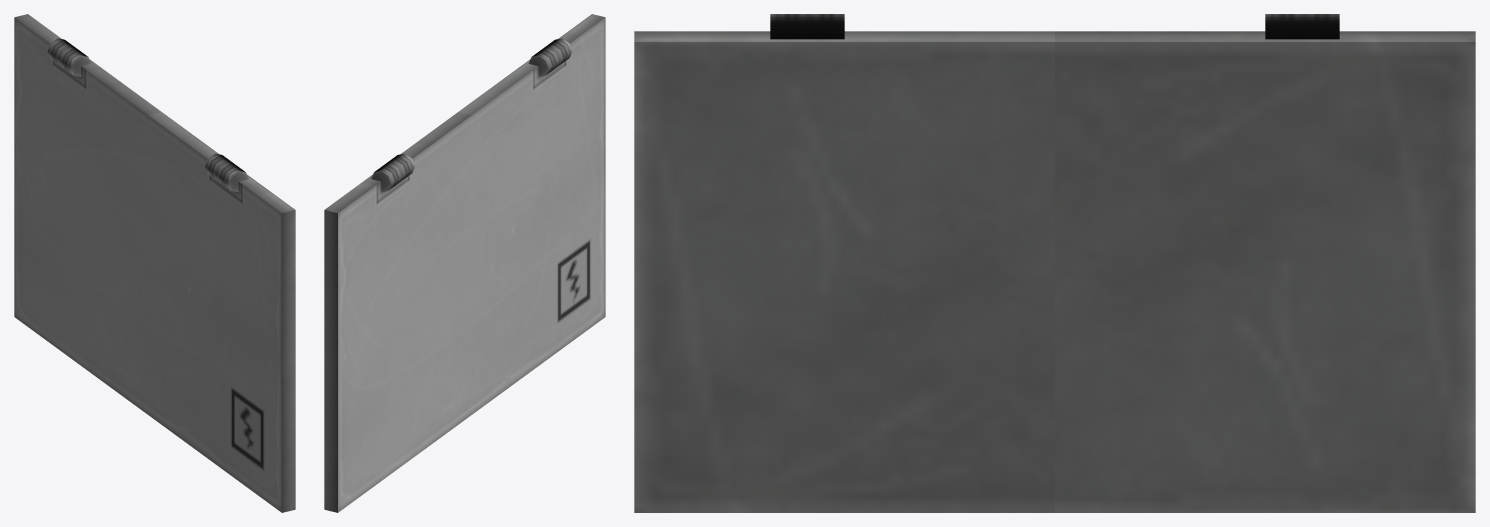
File: shroud door.obj
The picture shows the model from 3 angles, left to right: view 1: azimuth 30°, elevation 25°; view 2: azimuth 150°, elevation 25°; view 3: azimuth 270°, elevation 25°; orthographic projection. The views are drawn at different scales.
Parts seen in each view (by area): view 1: door; view 2: door; view 3: door.
Boxes of the visible parts, left/top/right/bottom form: door: left=14, top=14, right=295, bottom=512; door: left=324, top=14, right=605, bottom=512; door: left=634, top=14, right=1475, bottom=512.
Size of the model in its own units: 0.0438 by 0.5437 by 0.85.
1 material, 1 textured.
